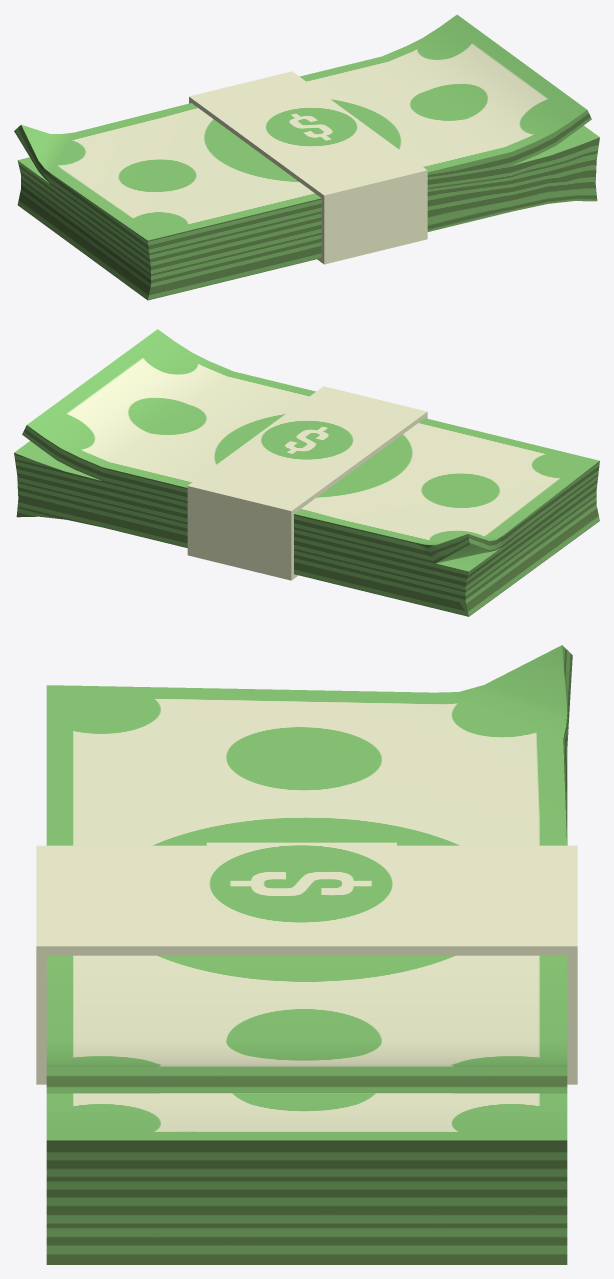
Rendered from M_Bunch_01.fbx.
The picture shows the model from 3 angles, top to bottom: view 1: azimuth 30°, elevation 25°; view 2: azimuth 150°, elevation 25°; view 3: azimuth 270°, elevation 25°; orthographic projection. The views are drawn at different scales.
Parts seen in each view (by area): view 1: M_Bunch_01; view 2: M_Bunch_01; view 3: M_Bunch_01.
Part boxes in pixels (x1,y1,x2,y2): M_Bunch_01: [14, 14, 599, 300]; M_Bunch_01: [14, 329, 599, 616]; M_Bunch_01: [36, 645, 577, 1264].
Size of the model in its own units: 0.6588 by 0.1304 by 0.3397.
